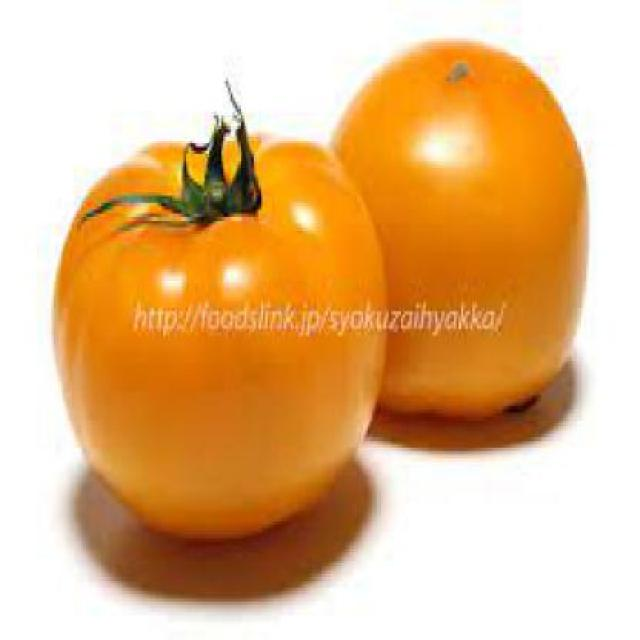sari: (38, 29, 602, 544)
